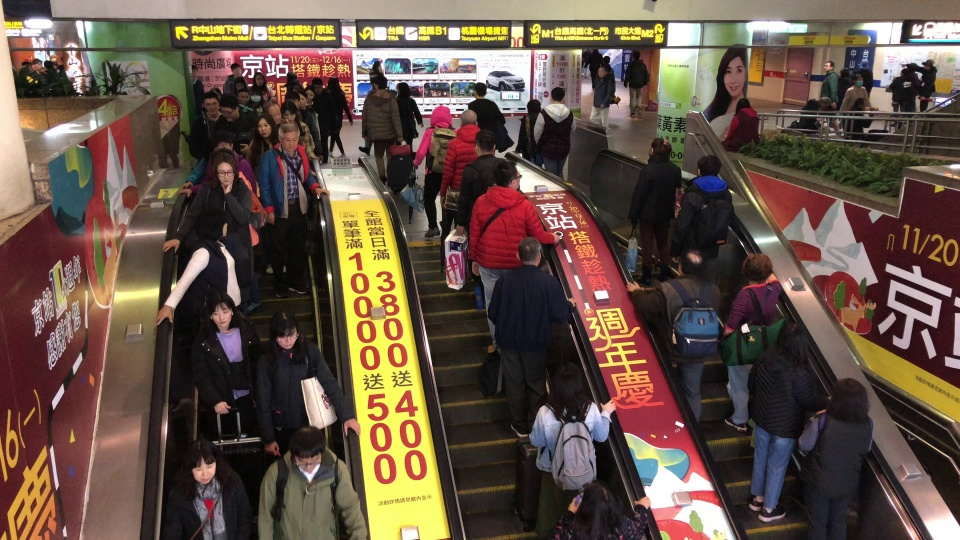person_head: (544, 363, 590, 418), (582, 484, 620, 535), (826, 378, 869, 422), (202, 292, 241, 332), (777, 320, 809, 364), (293, 428, 321, 472), (190, 441, 218, 483), (270, 310, 300, 349), (740, 254, 772, 287), (200, 206, 228, 239), (213, 152, 237, 190), (493, 162, 521, 192), (696, 149, 724, 179), (516, 237, 541, 267), (678, 250, 704, 276), (648, 136, 675, 160), (473, 130, 495, 158), (280, 123, 300, 152), (431, 105, 451, 127), (255, 114, 273, 138), (281, 99, 299, 121), (220, 96, 237, 118), (266, 100, 281, 123), (202, 95, 219, 113), (460, 110, 477, 128), (550, 86, 565, 103), (735, 98, 752, 113), (311, 76, 324, 95), (288, 81, 303, 97), (328, 76, 340, 95), (473, 82, 486, 99), (853, 97, 865, 115), (524, 98, 538, 113), (397, 82, 410, 98), (818, 95, 830, 112), (250, 89, 263, 103), (375, 74, 388, 88), (296, 90, 306, 108), (304, 86, 315, 102), (852, 72, 863, 88), (252, 72, 263, 87), (597, 64, 608, 79), (237, 88, 247, 104), (236, 76, 247, 90), (31, 58, 41, 72), (230, 62, 240, 75), (367, 73, 376, 87), (210, 87, 221, 98), (372, 61, 383, 72), (286, 72, 296, 84), (823, 60, 833, 71), (924, 57, 933, 69), (190, 65, 198, 78), (43, 60, 52, 71), (49, 54, 58, 64), (839, 67, 848, 77), (900, 68, 910, 77), (860, 58, 868, 68), (18, 61, 31, 67), (633, 51, 639, 60), (603, 55, 610, 62)
person_vbox: (624, 248, 725, 430), (488, 237, 576, 437), (470, 161, 559, 353), (528, 361, 617, 540), (256, 309, 339, 470), (258, 119, 332, 298), (750, 320, 812, 525), (797, 376, 873, 540), (163, 152, 251, 291), (185, 291, 257, 439), (154, 205, 241, 325), (723, 253, 780, 434), (678, 147, 747, 282), (259, 427, 340, 540), (440, 109, 491, 274), (456, 129, 508, 287), (173, 439, 254, 540), (629, 135, 678, 283), (216, 147, 261, 287), (413, 103, 458, 239), (554, 484, 639, 539), (361, 77, 403, 183), (534, 85, 577, 181), (466, 81, 514, 159), (190, 93, 228, 160), (396, 81, 423, 175), (280, 102, 321, 161), (281, 91, 321, 147), (358, 71, 384, 155), (328, 75, 353, 162), (723, 96, 760, 153), (311, 76, 331, 167), (591, 62, 617, 131), (624, 49, 650, 118), (216, 95, 251, 144), (839, 71, 878, 114), (839, 101, 876, 146), (246, 112, 278, 164), (515, 96, 538, 161), (299, 87, 321, 152), (888, 68, 916, 117), (820, 60, 839, 132), (800, 94, 832, 135), (917, 53, 937, 111), (305, 82, 323, 144), (853, 57, 874, 100), (48, 53, 67, 95), (223, 61, 246, 93), (906, 61, 922, 102), (838, 66, 851, 114), (188, 63, 203, 96), (590, 48, 602, 88), (249, 88, 266, 116), (30, 57, 42, 96), (43, 58, 54, 96), (18, 59, 29, 94), (284, 91, 299, 111), (583, 48, 590, 78)
